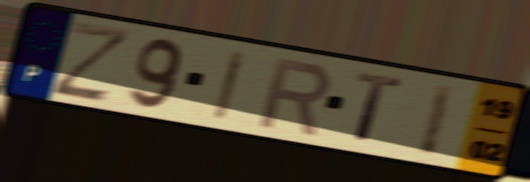9: (126, 35, 185, 111)
I: (414, 80, 460, 159), (210, 47, 250, 123)
R: (256, 54, 334, 139)
T: (352, 70, 407, 147)
Z: (48, 18, 136, 105)
